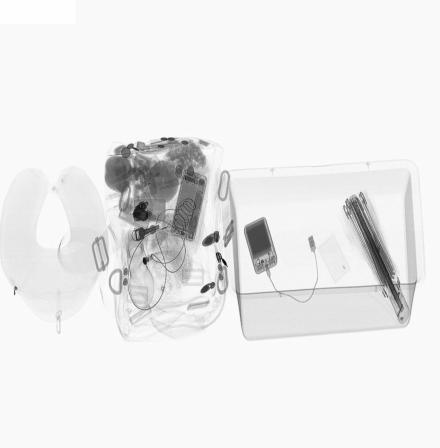Powerbank: (242, 217, 279, 275)
